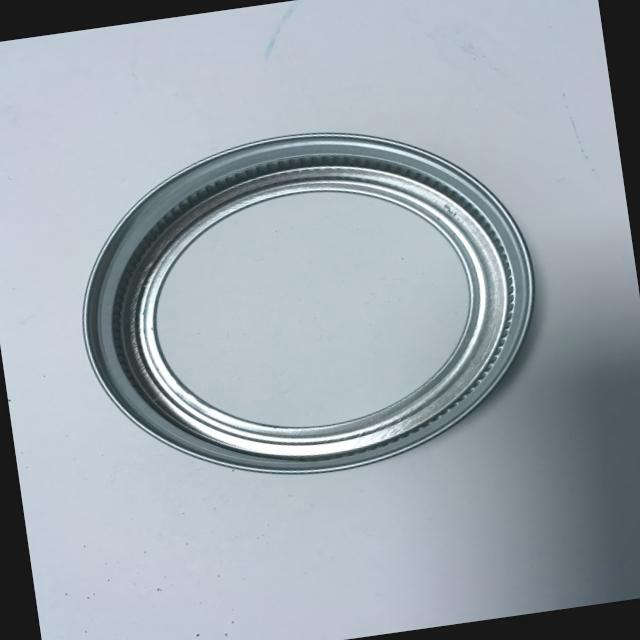metal: (41, 92, 574, 520)
